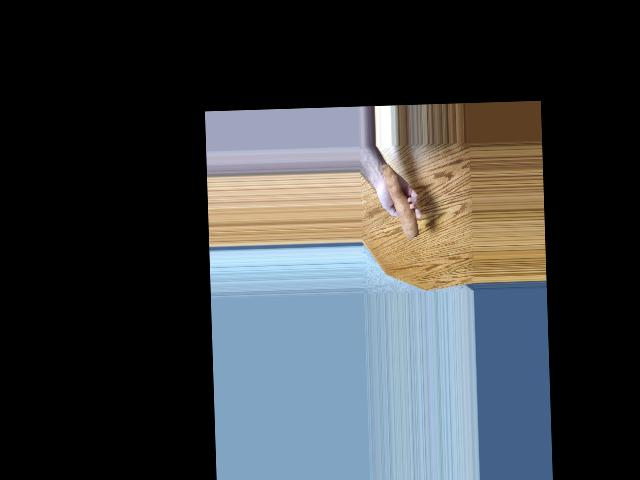sweet_potato: (379, 162, 420, 240)
